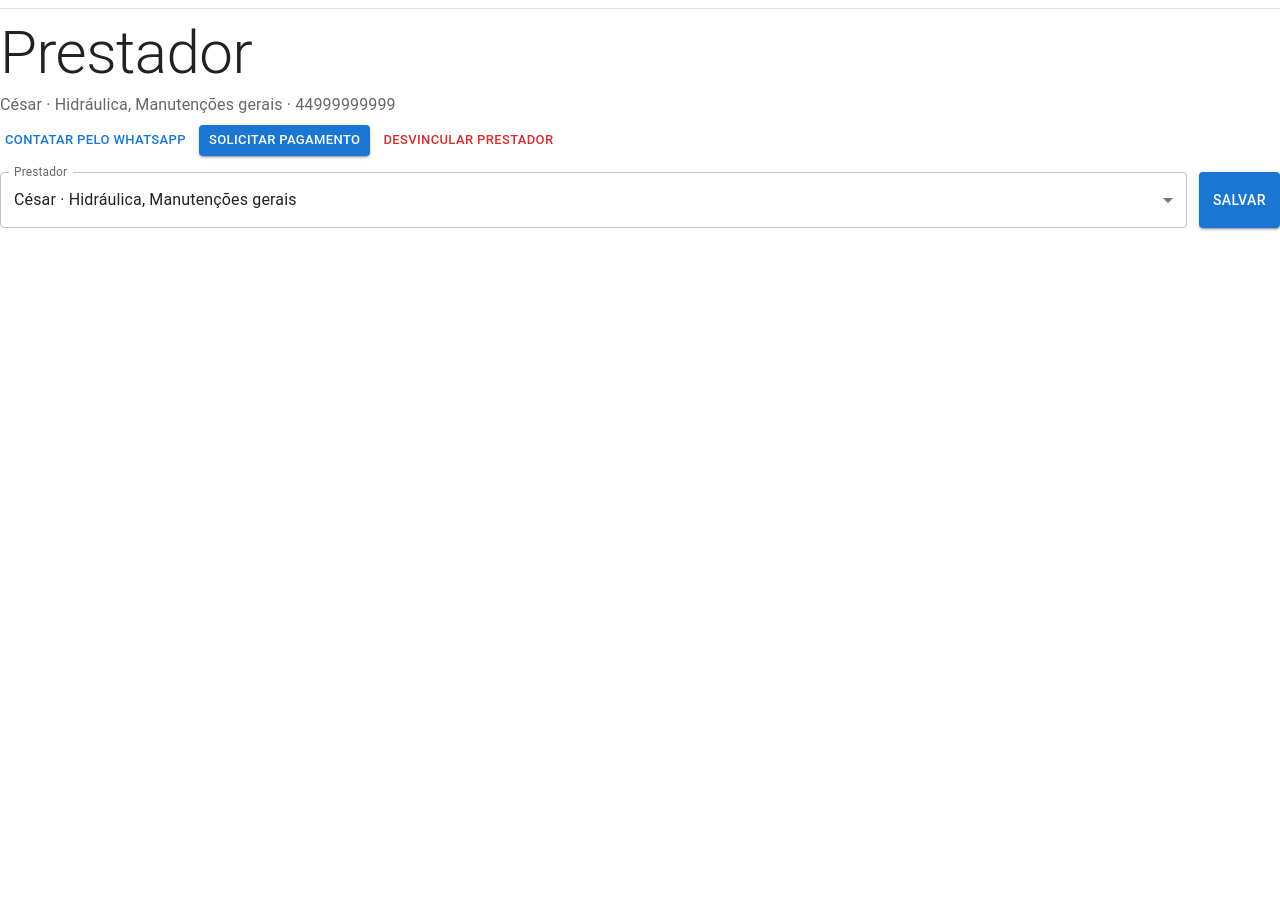
RequestServiceProviderCard visibility and removal › keeps current provider when removal fails
What coordinates should you click on to do the following:
click the button "Desvincular prestador"
I would click on:
 (468, 140)
Its box is [378,125,558,156].
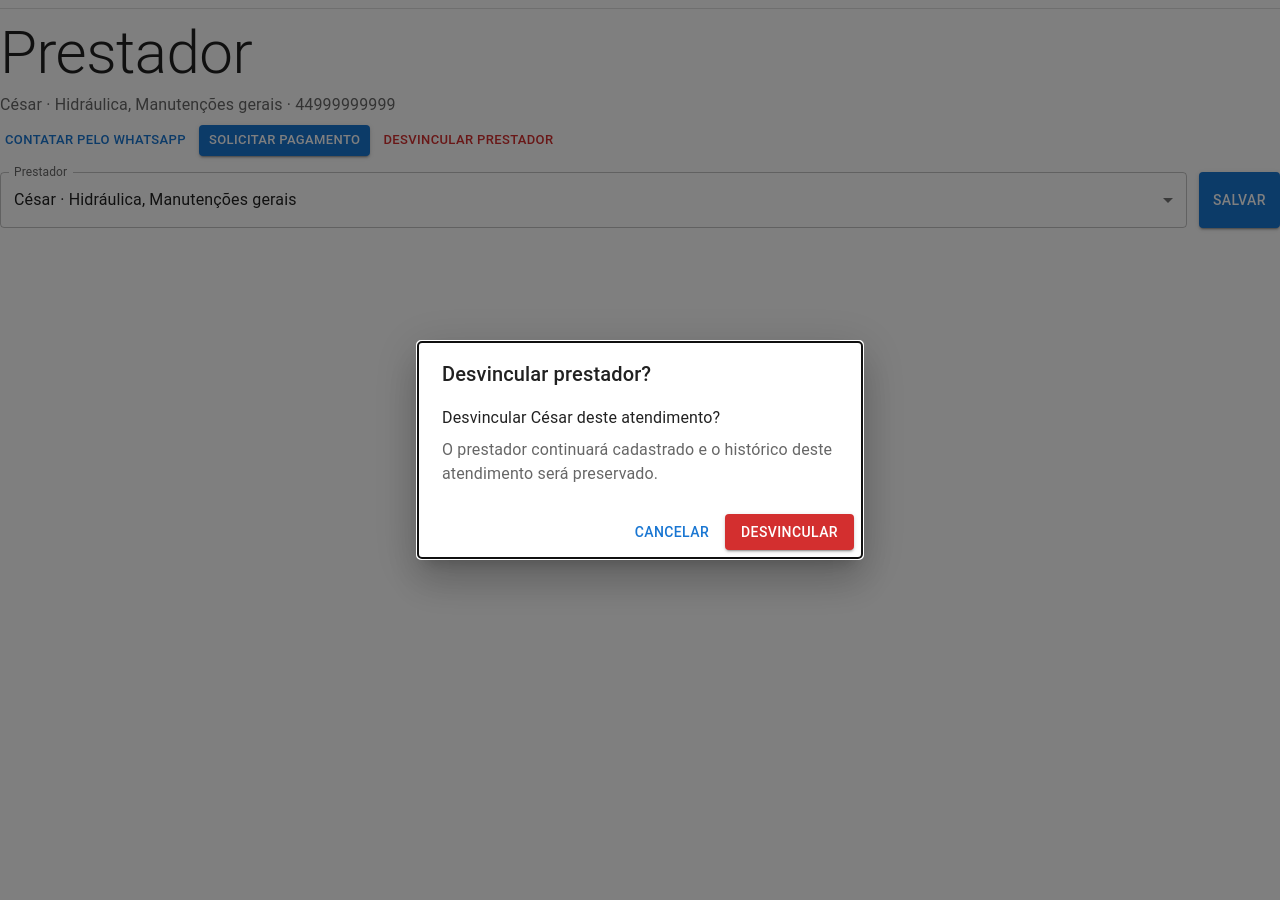
What coordinates should you click on to do the following:
click the button "Desvincular"
I would click on:
 (790, 532)
Its box is [725,514,854,550].
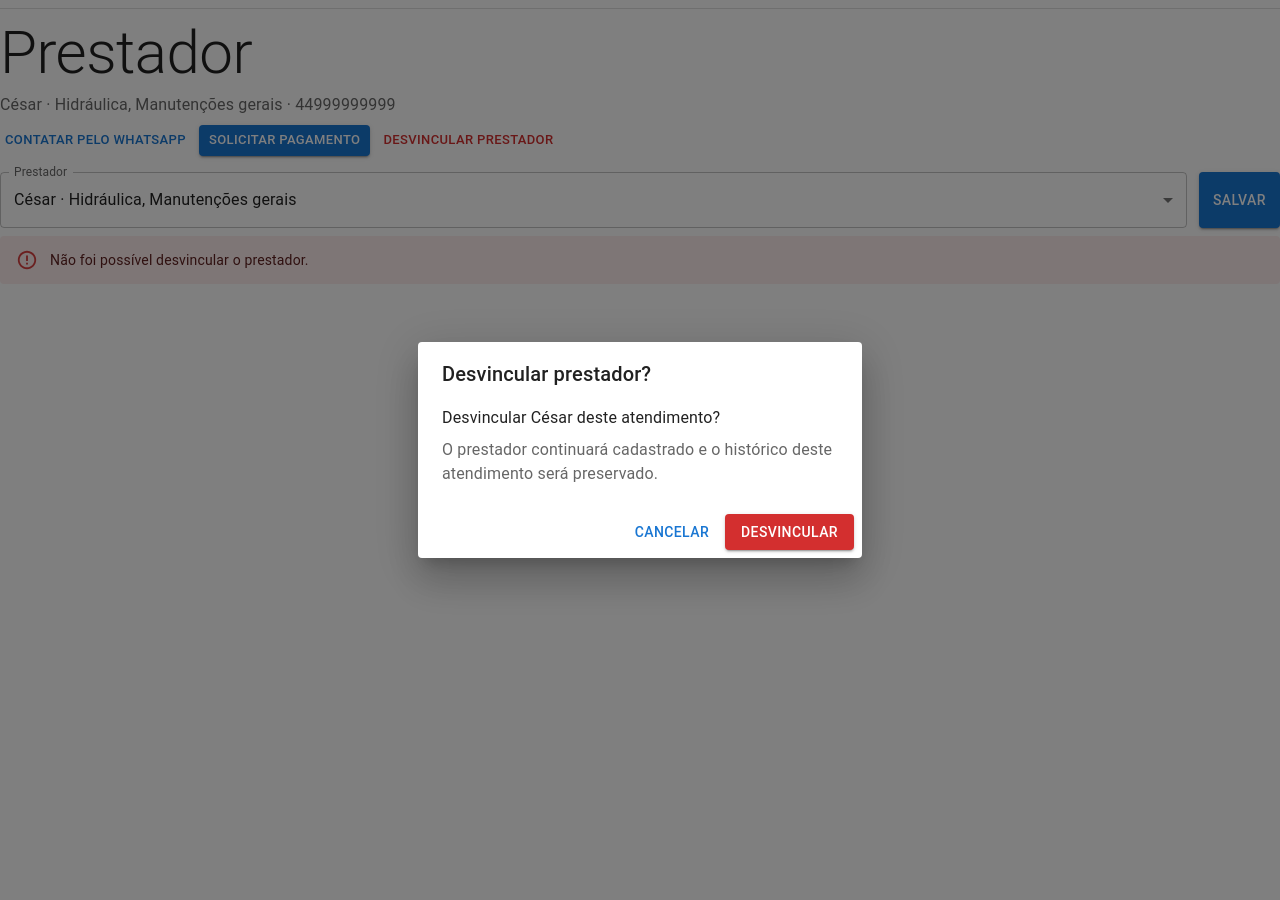
Expected: the text "César · Hidráulica, Manutenções gerais · 44999999999" is shown, [0,95,396,114]
Expected: the text "Não foi possível desvincular o prestador." is shown, [50,252,309,268]
